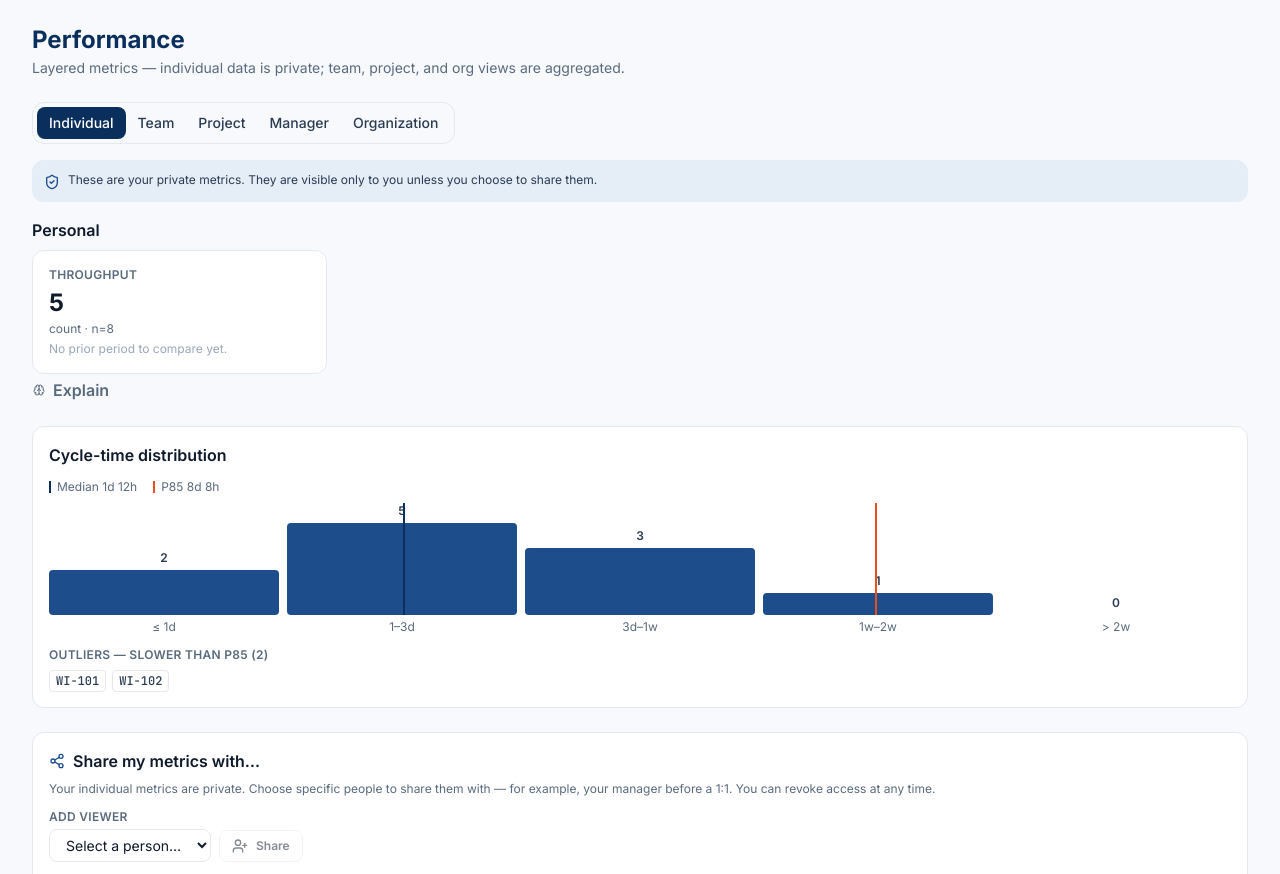
PerformancePanel › renders an AiMetaBadge on the Explain-anomaly output (§2.4)
Click the button with aria-label "Explain Throughput anomaly": (71, 390) [32, 381, 110, 399]
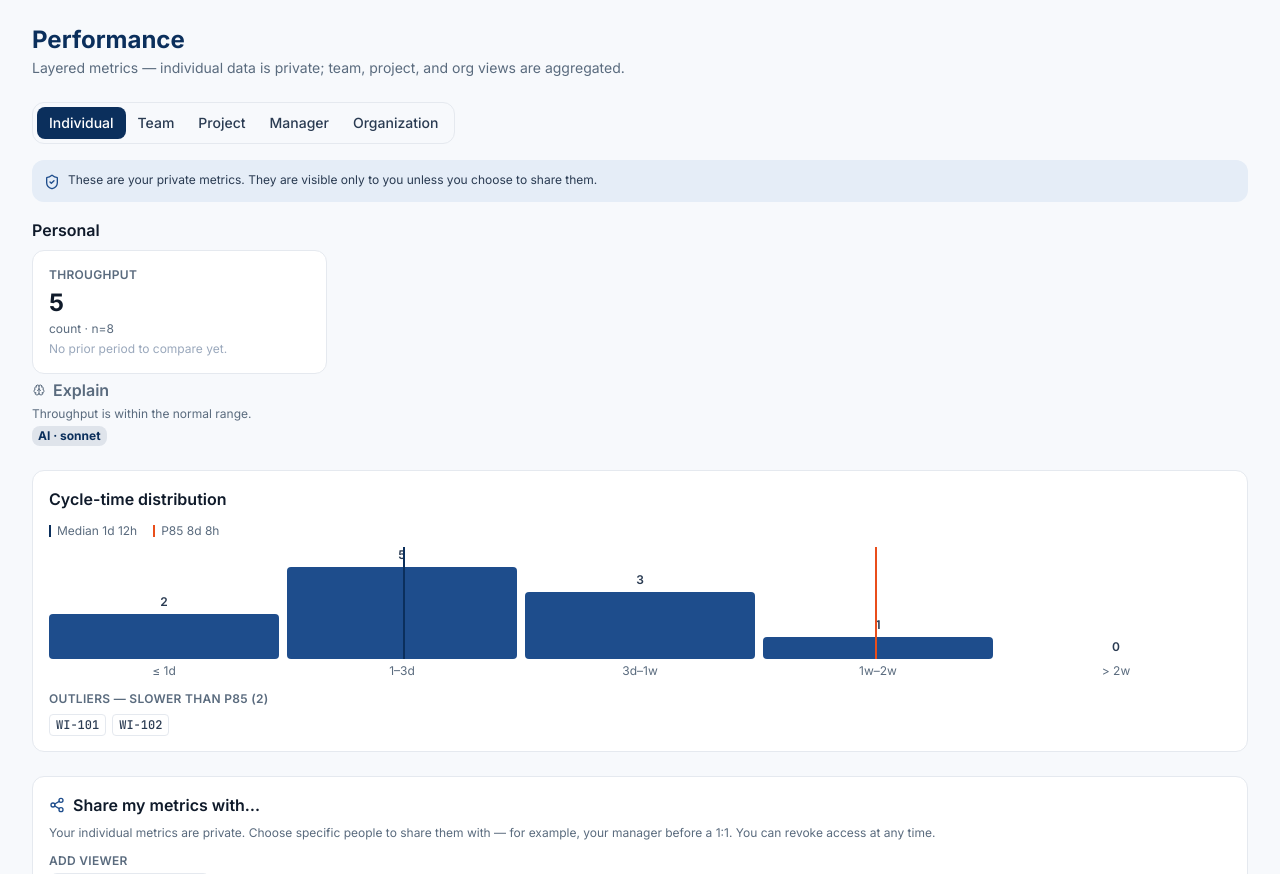
Expected: the text "Throughput is within the normal range." is shown, [32, 406, 252, 421]
Expected: the text "AI · sonnet" is shown, [32, 426, 107, 446]
